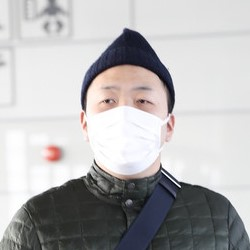mask: (84, 101, 168, 187)
